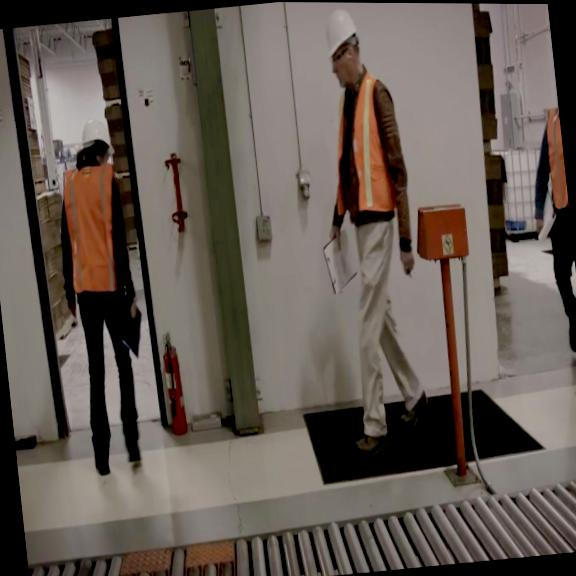safety_vest: (324, 73, 393, 214), (58, 156, 128, 293), (542, 103, 568, 210)
